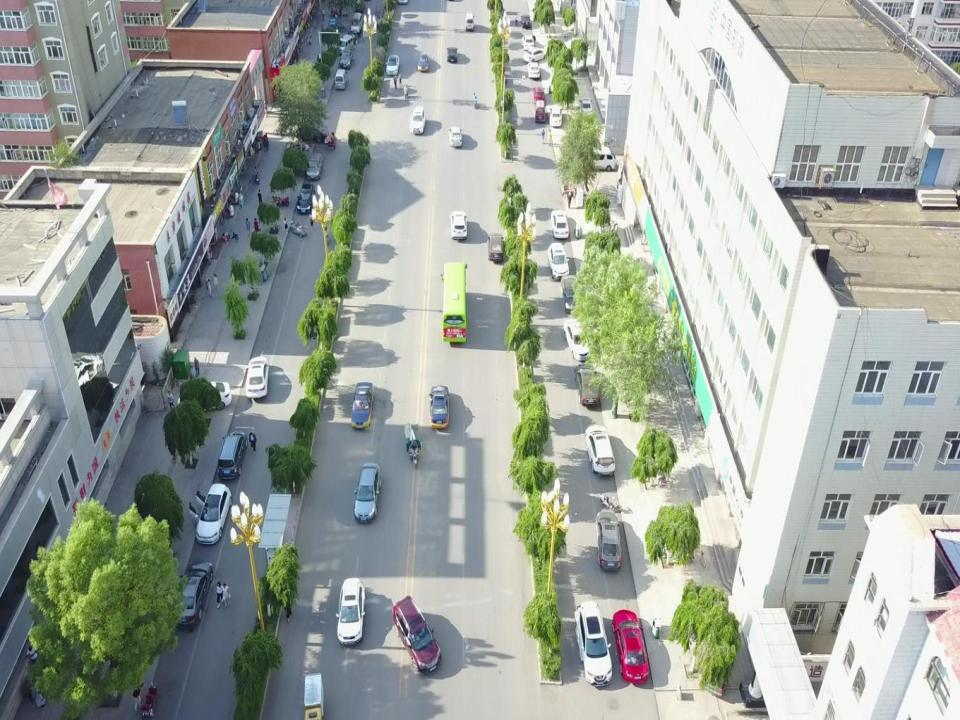bus: (440, 260, 468, 344)
car: (392, 595, 442, 675), (573, 599, 613, 690), (610, 607, 650, 684), (171, 558, 214, 628), (188, 482, 232, 546), (334, 576, 366, 648), (177, 379, 232, 414), (594, 509, 624, 572), (353, 462, 383, 524), (584, 425, 616, 478), (216, 429, 247, 482), (562, 318, 592, 362), (572, 362, 600, 406), (350, 381, 374, 430), (245, 356, 270, 400), (429, 385, 450, 431), (547, 242, 570, 280), (560, 274, 581, 312), (295, 183, 316, 216), (550, 208, 570, 240), (487, 232, 504, 264), (450, 211, 467, 242), (409, 106, 426, 137), (522, 45, 547, 65), (306, 151, 323, 180), (448, 126, 463, 149), (578, 97, 593, 119), (548, 105, 562, 128), (338, 49, 354, 69), (386, 54, 400, 76), (416, 52, 429, 73), (532, 86, 546, 105), (527, 62, 541, 80), (522, 34, 536, 51), (446, 46, 459, 64), (520, 13, 532, 29)
van: (578, 145, 618, 173), (336, 33, 354, 55), (333, 68, 347, 91), (349, 11, 363, 34), (534, 100, 546, 124), (464, 12, 475, 32)
